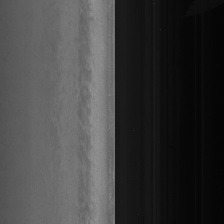silk_spot: (70, 71, 98, 132)
